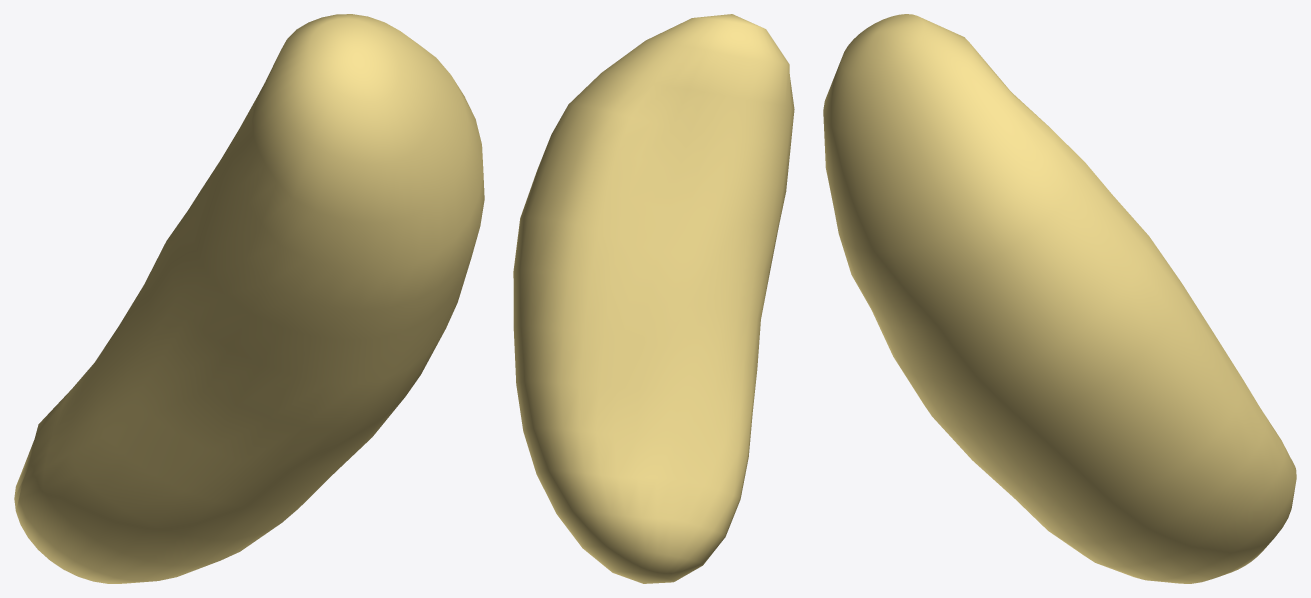
The picture shows the model from 3 angles, left to right: view 1: azimuth 30°, elevation 25°; view 2: azimuth 150°, elevation 25°; view 3: azimuth 270°, elevation 25°; orthographic projection. The views are drawn at different scales.
Parts seen in each view (by area): view 1: ZA_2e9d11a357c8187e; view 2: ZA_2e9d11a357c8187e; view 3: ZA_2e9d11a357c8187e.
Boxes of the visible parts, x1=… form: ZA_2e9d11a357c8187e: x1=14, y1=14, x2=484, y2=583; ZA_2e9d11a357c8187e: x1=513, y1=14, x2=794, y2=583; ZA_2e9d11a357c8187e: x1=823, y1=14, x2=1296, y2=583.
Size of the model in its own units: 0.00773 by 0.0139 by 0.0103.
